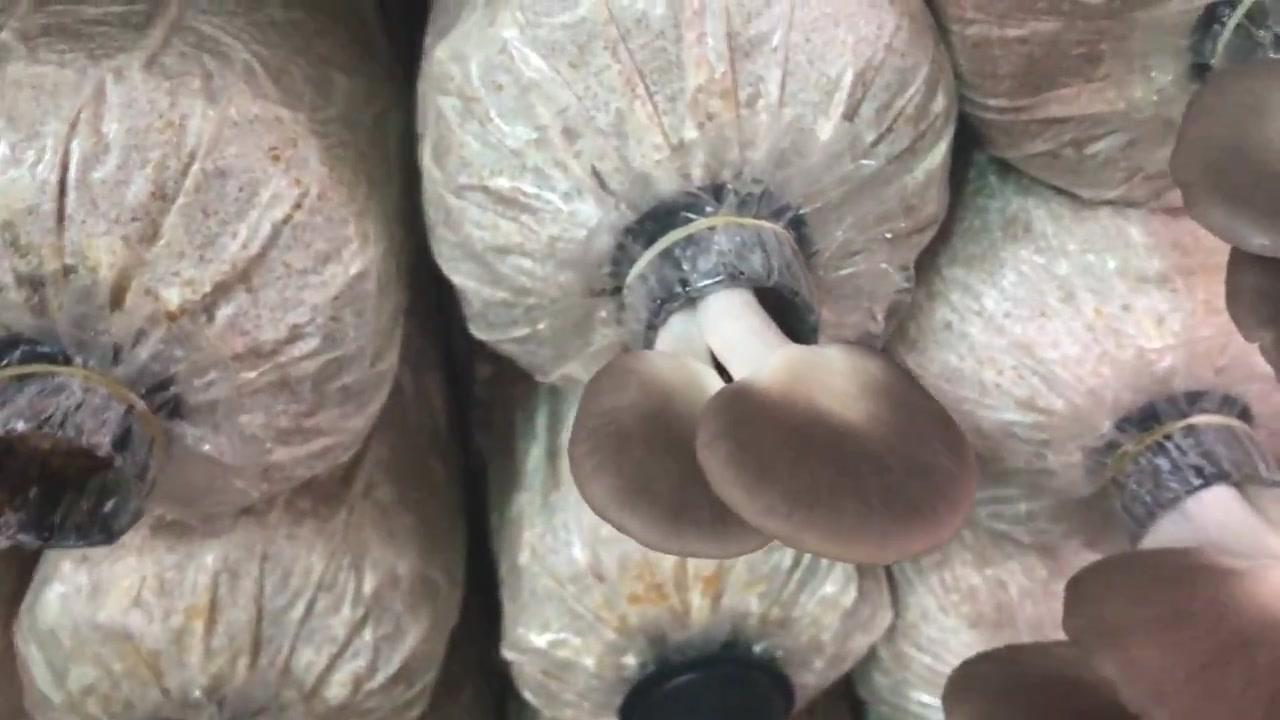nam: (574, 218, 966, 571), (945, 427, 1280, 717)
